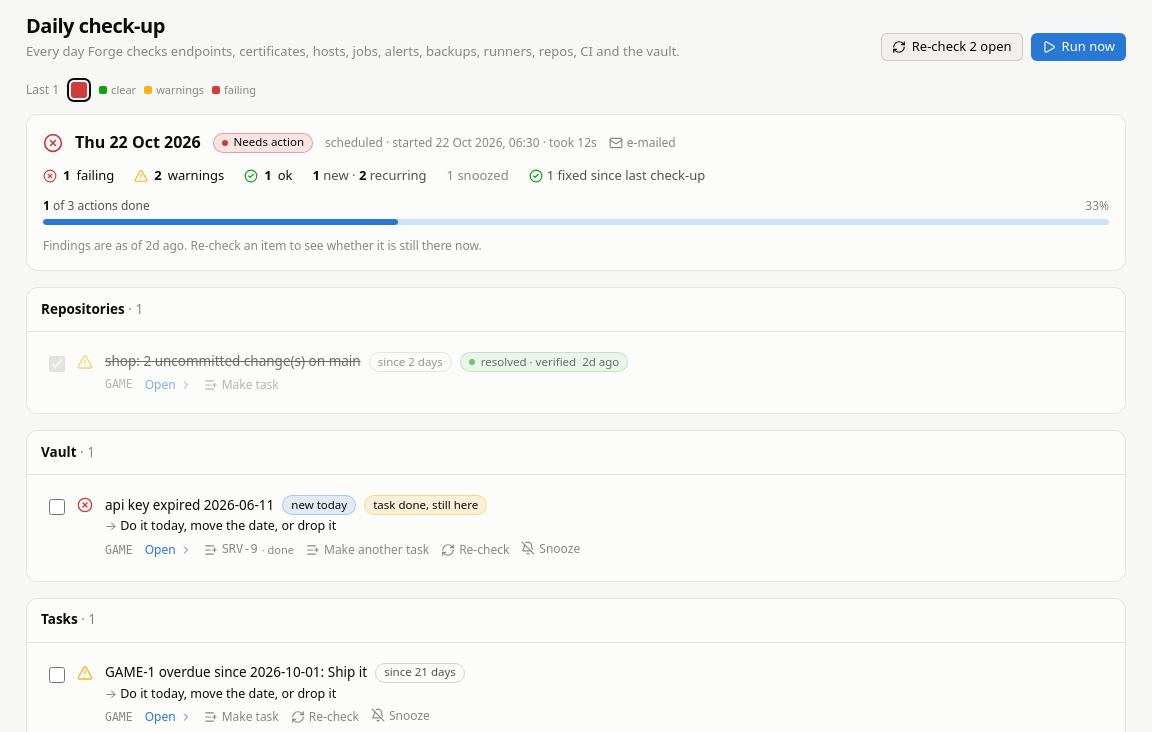
Test: CheckupPage › tells chronic from new, shows task state, re-check, fixed and snoozed
Expected: the text "GAME-1 overdue since 2026-10-01: Ship it" is shown, [105,663,367,682]
Expected: the text "since 21 days" is shown, [375,662,465,682]
Note: Re-checking the overdue task resolves it.
Click the button "Re-check" below "GAME-1 overdue since 2026-10-01: Ship it" at x=325, y=717, box [291,708,359,726]
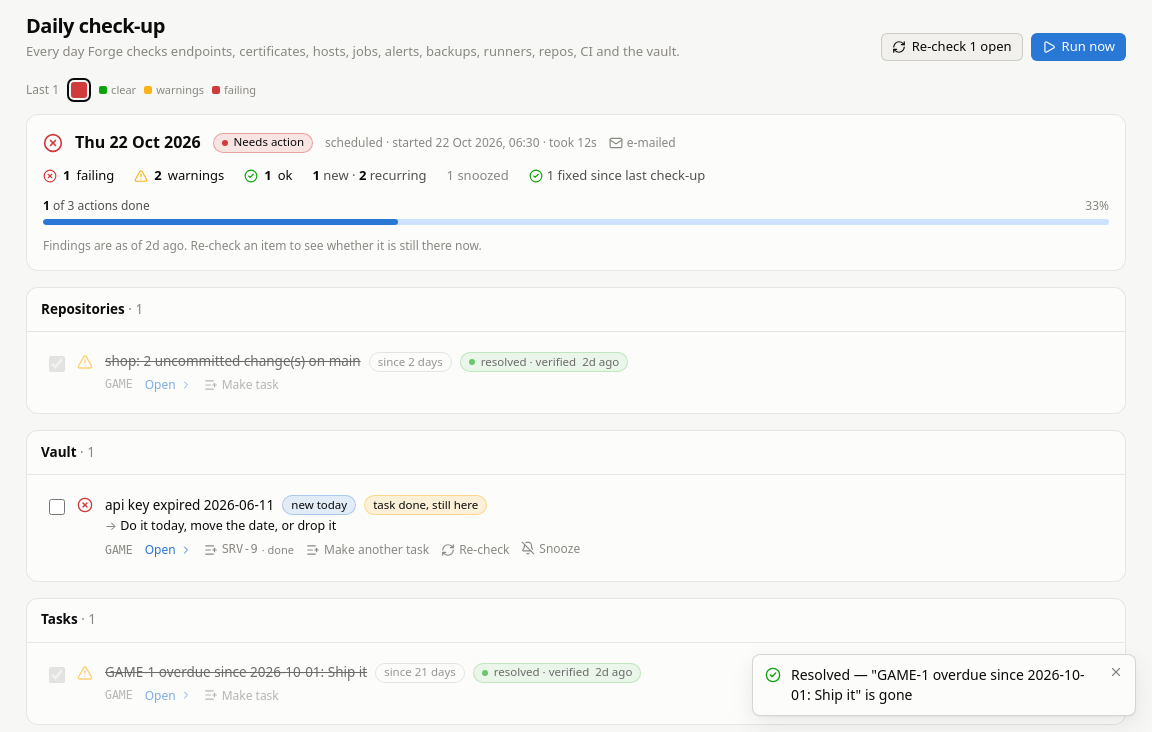
Result: the text "Resolved — \"GAME-1 overdue" is shown at [791,665,1085,704]
